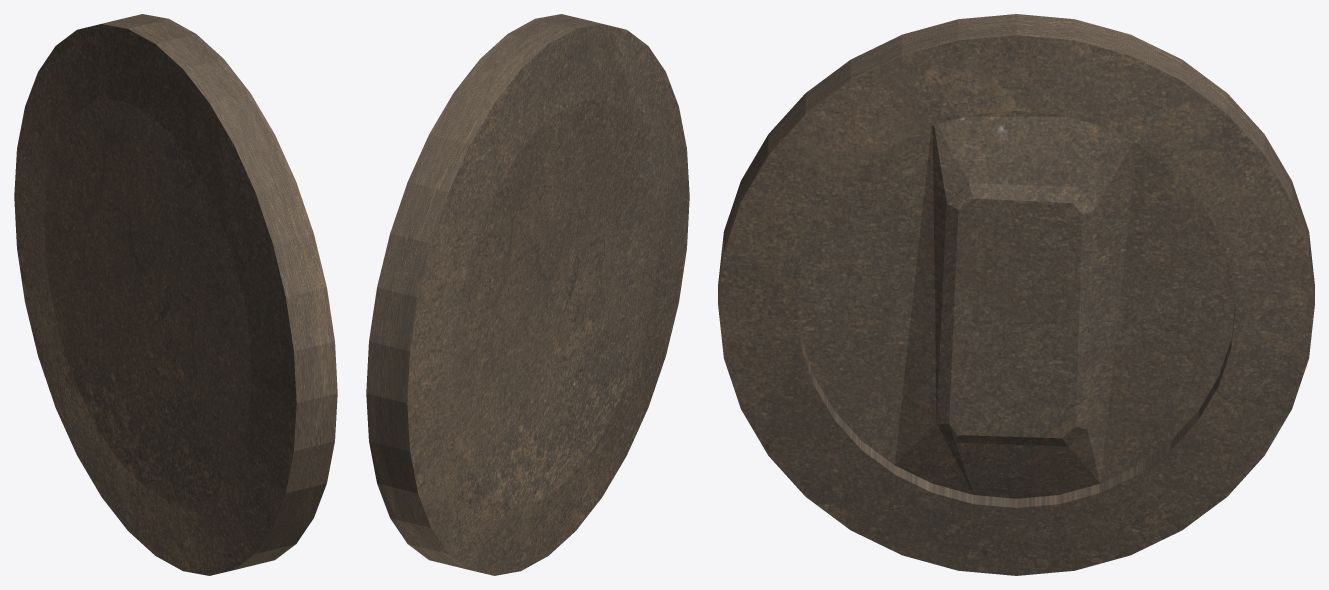
Rendered from Temple key1.fbx.
3 views of the same model, side by side, from view 1: azimuth 30°, elevation 25°; view 2: azimuth 150°, elevation 25°; view 3: azimuth 270°, elevation 25° (orthographic). The views are drawn at different scales.
Visible parts, largest first — view 1: Disk Key; view 2: Disk Key; view 3: Disk Key.
Boxes of the visible parts, left/top/right/bottom form: Disk Key: left=14, top=14, right=337, bottom=575; Disk Key: left=366, top=14, right=689, bottom=575; Disk Key: left=718, top=14, right=1314, bottom=575.
Size of the model in its own units: 17.59 by 137 by 137.
Materials: 1 (1 with a texture image).
